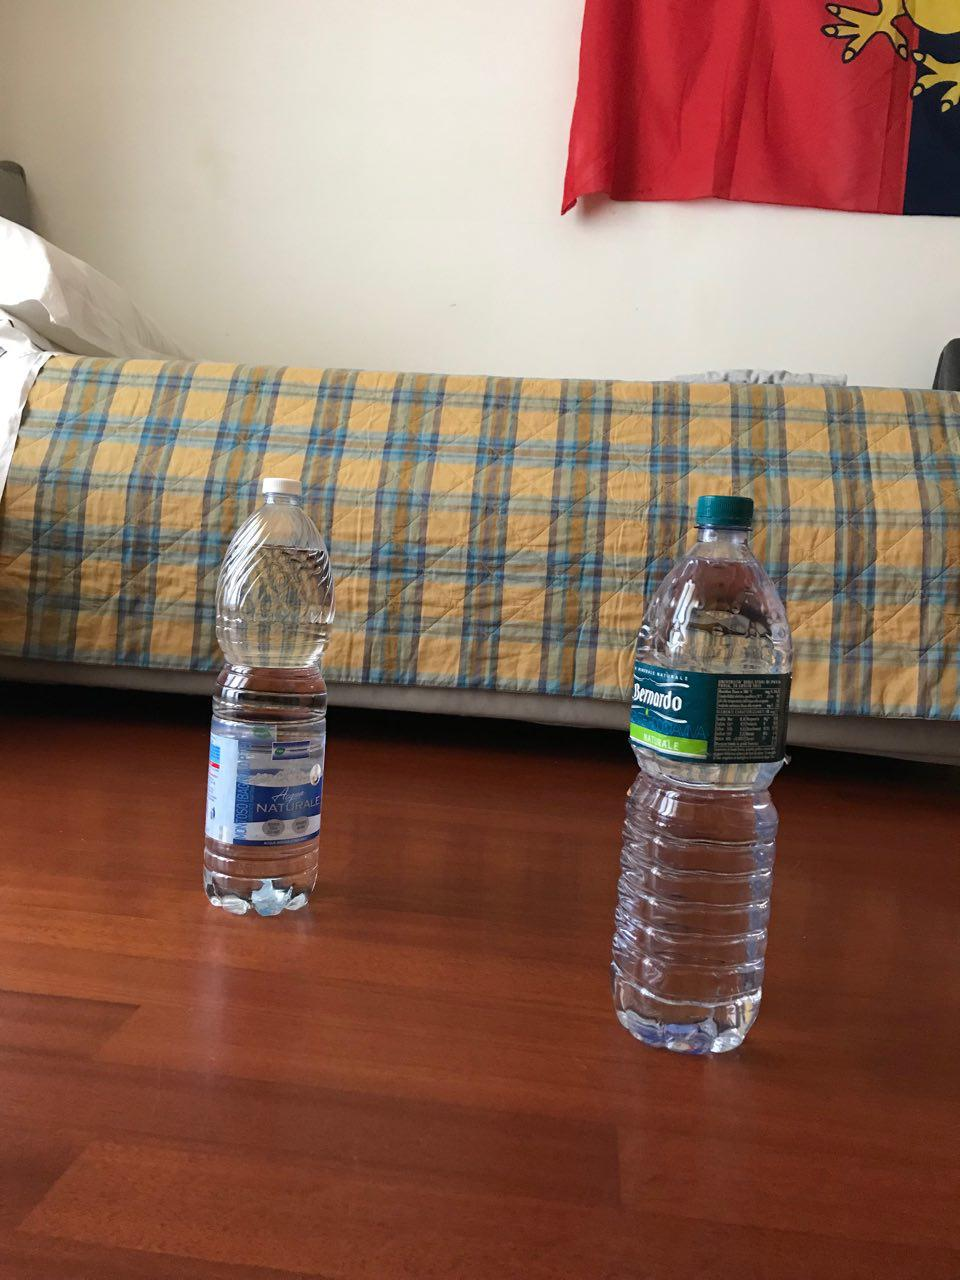san_bernardo: (610, 494, 792, 1056)
